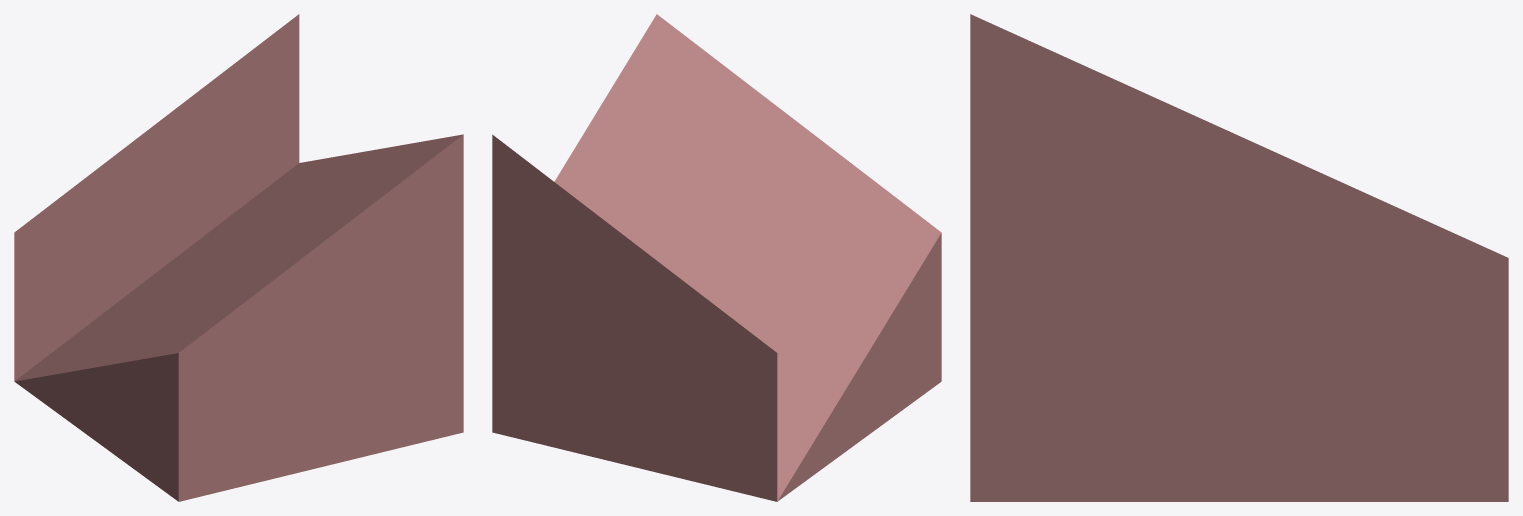
The model's file is Bounce_Corner.glb.
The picture shows the model from 3 angles, left to right: view 1: azimuth 30°, elevation 25°; view 2: azimuth 150°, elevation 25°; view 3: azimuth 270°, elevation 25°; orthographic projection. The views are drawn at different scales.
Visible parts, largest first — view 1: Bounce_Corner_body; view 2: Bounce_Corner_body; view 3: Bounce_Corner_body.
Part boxes in pixels (x1=…): Bounce_Corner_body: x1=14, y1=14, x2=463, y2=501; Bounce_Corner_body: x1=492, y1=14, x2=941, y2=501; Bounce_Corner_body: x1=970, y1=14, x2=1508, y2=501.
Size of the model in its own units: 1 by 1 by 1.
